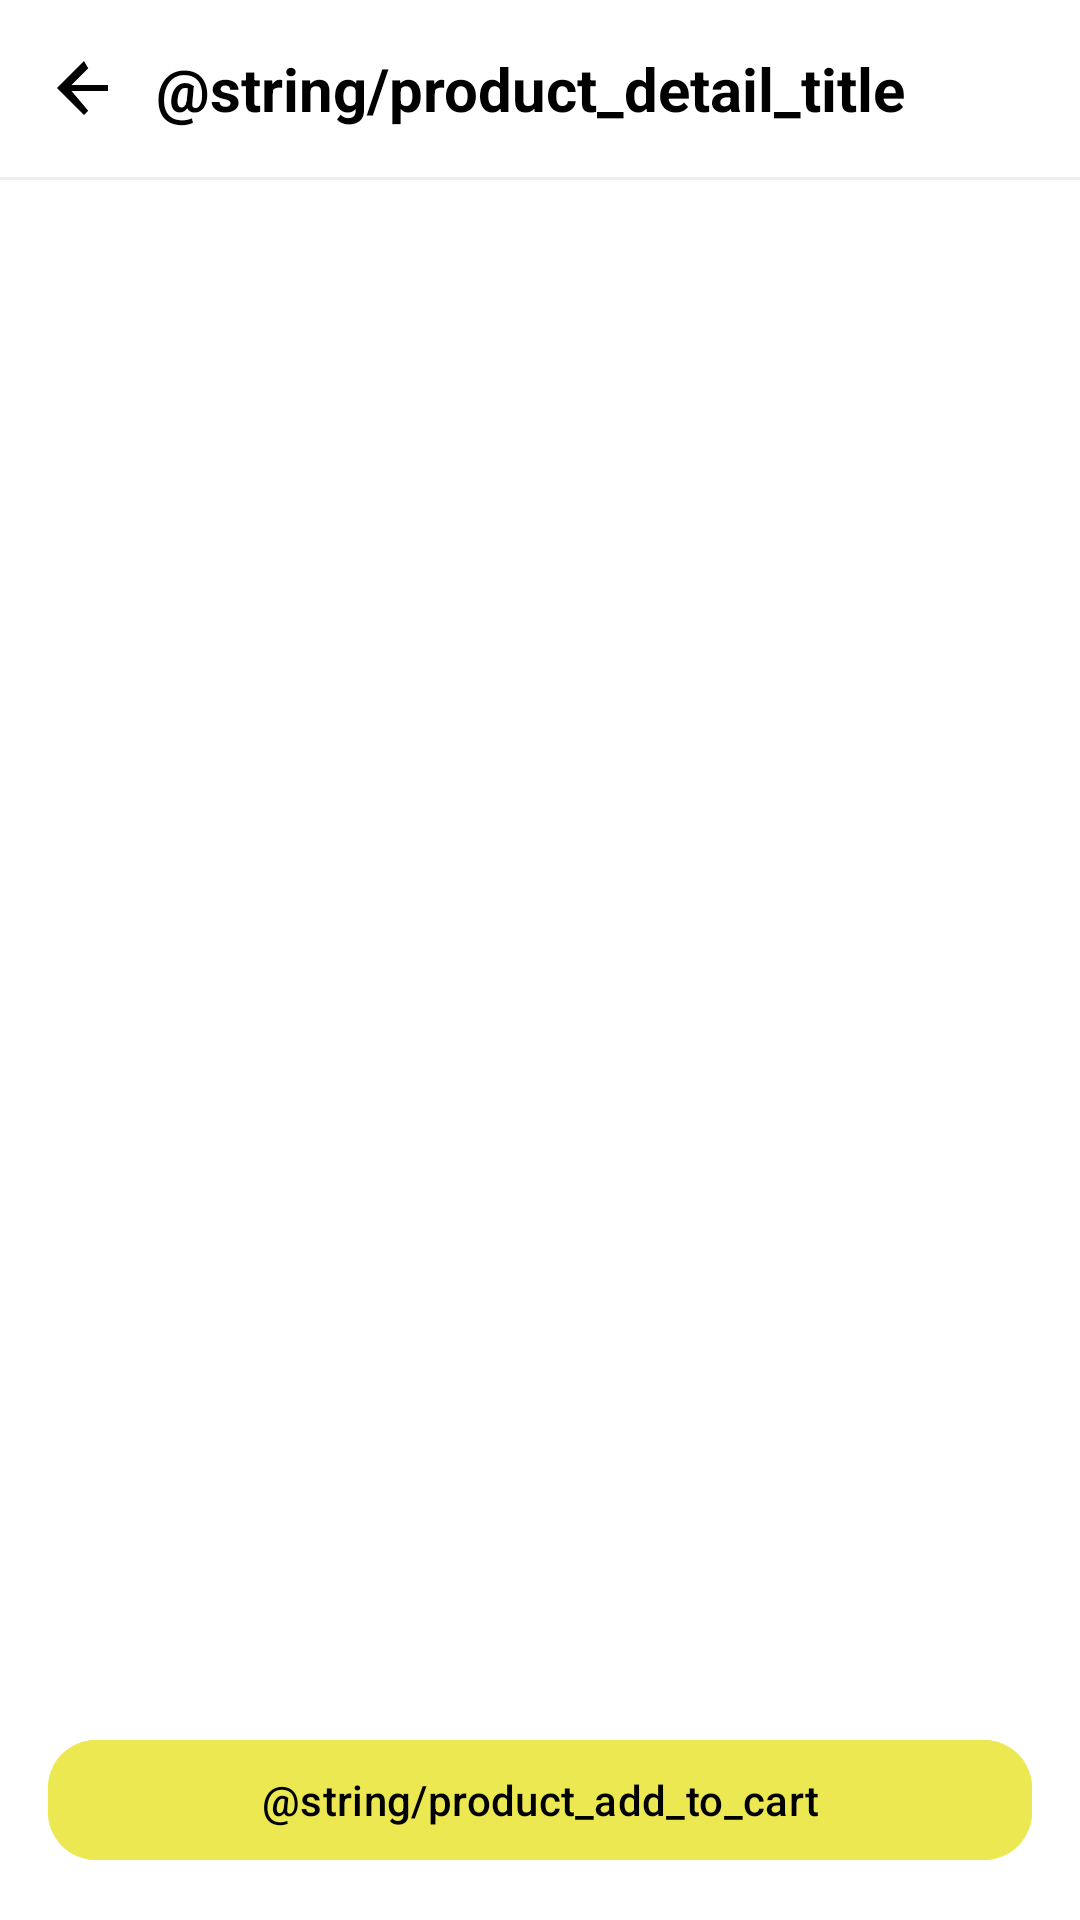

Icons on this 1080px×1920px Android screen, each with the point to tap as point (x, y):
back: point (82, 88)
